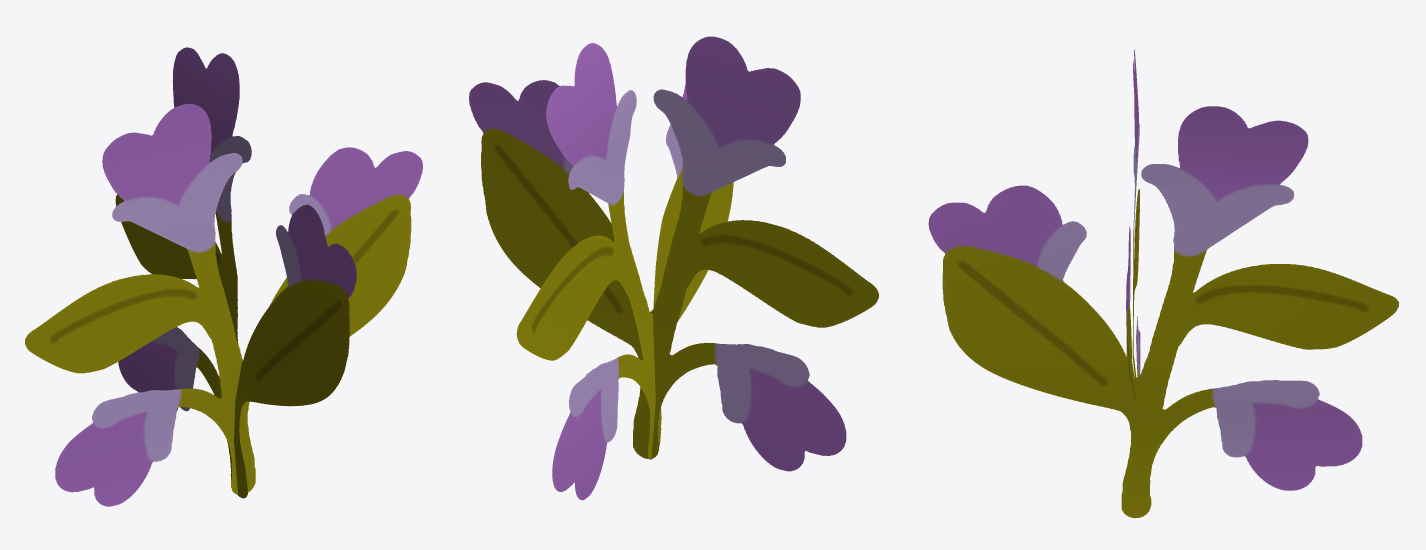
Rendered from HeartBlooms.fbx.
3 views of the same model, side by side, from view 1: azimuth 30°, elevation 25°; view 2: azimuth 150°, elevation 25°; view 3: azimuth 270°, elevation 25° (orthographic). The views are drawn at different scales.
Parts seen in each view (by area): view 1: heartBloom1, heartBloom2; view 2: heartBloom1, heartBloom2; view 3: heartBloom2, heartBloom1.
Part boxes in pixels (x1,y1,x2,y2): heartBloom1: (25, 104, 422, 506); heartBloom2: (115, 47, 356, 498); heartBloom1: (469, 36, 878, 471); heartBloom2: (516, 43, 733, 500); heartBloom2: (928, 106, 1398, 518); heartBloom1: (1126, 49, 1140, 433).
Bounding box in the file's own units: 1 × 0.9685 × 1.
